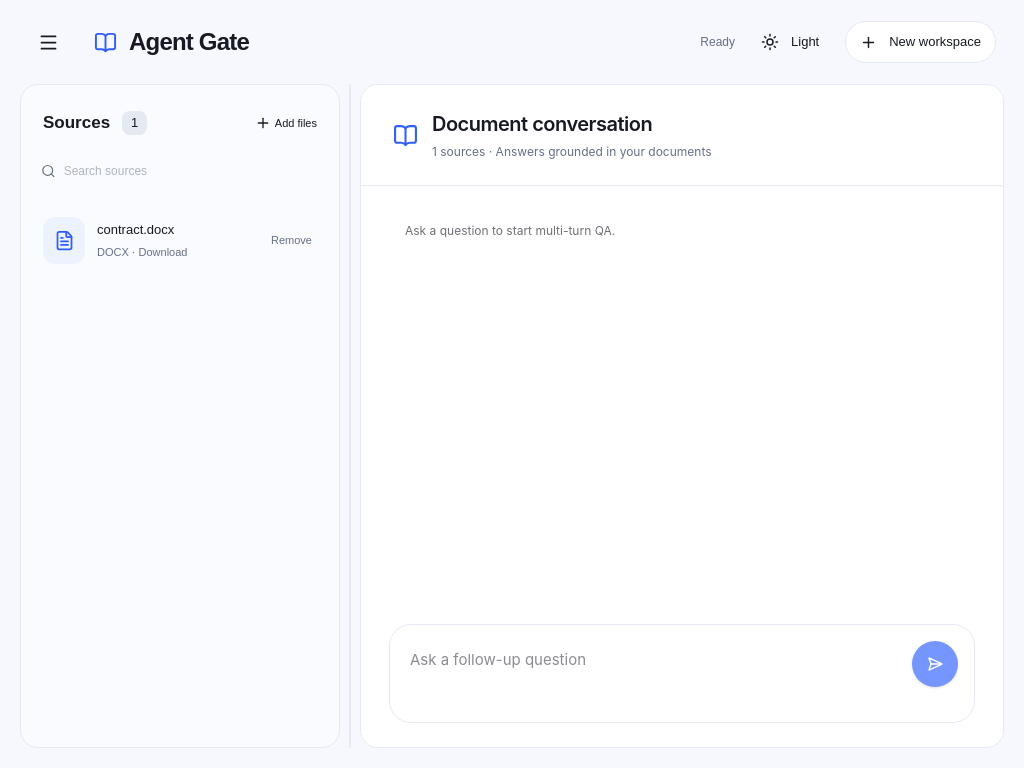
it: 追问走 POST 流，输入框节点稳定，取消携带当前轮次
The width and height of the screenshot is (1024, 768).
Expected: the link "Download contract.docx" is shown, [97, 222, 188, 258]
Step 1. Type "Question" into the text box named "QA question input" → (682, 674), box [406, 641, 958, 706]
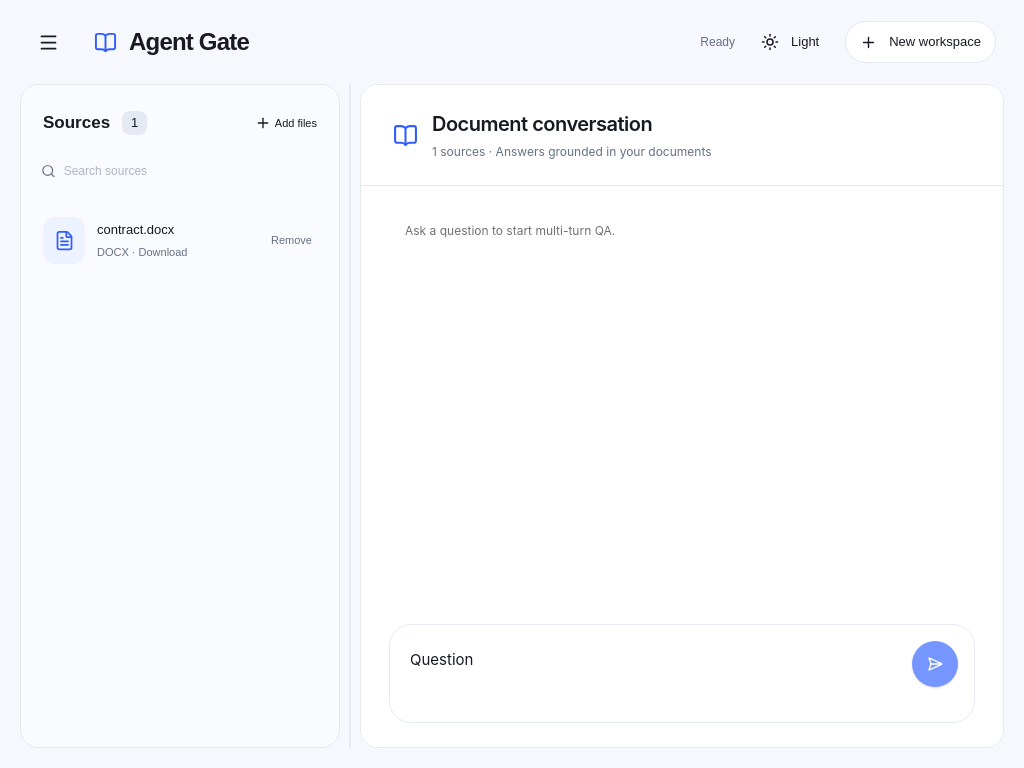
Step 2. Press Enter in the text box named "QA question input", box [406, 641, 958, 706]
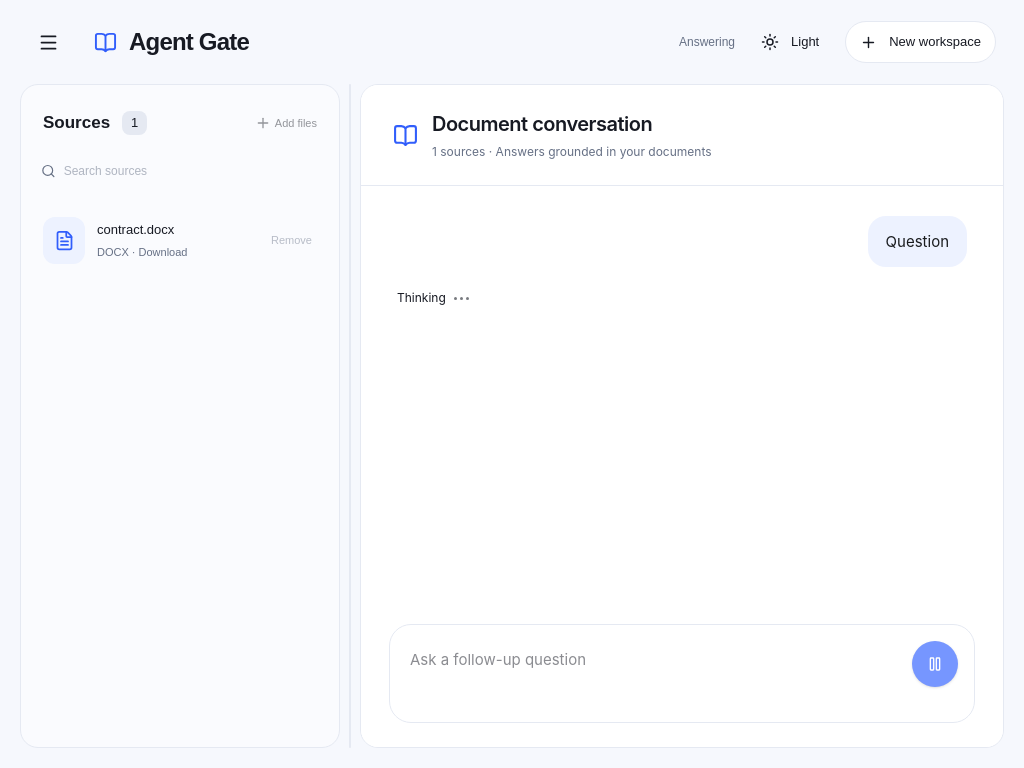
Expected: the text "Question" is shown, [886, 228, 949, 255]
Step 3. Click the button named "Submit or pause answer" → (935, 664), box [912, 641, 958, 687]
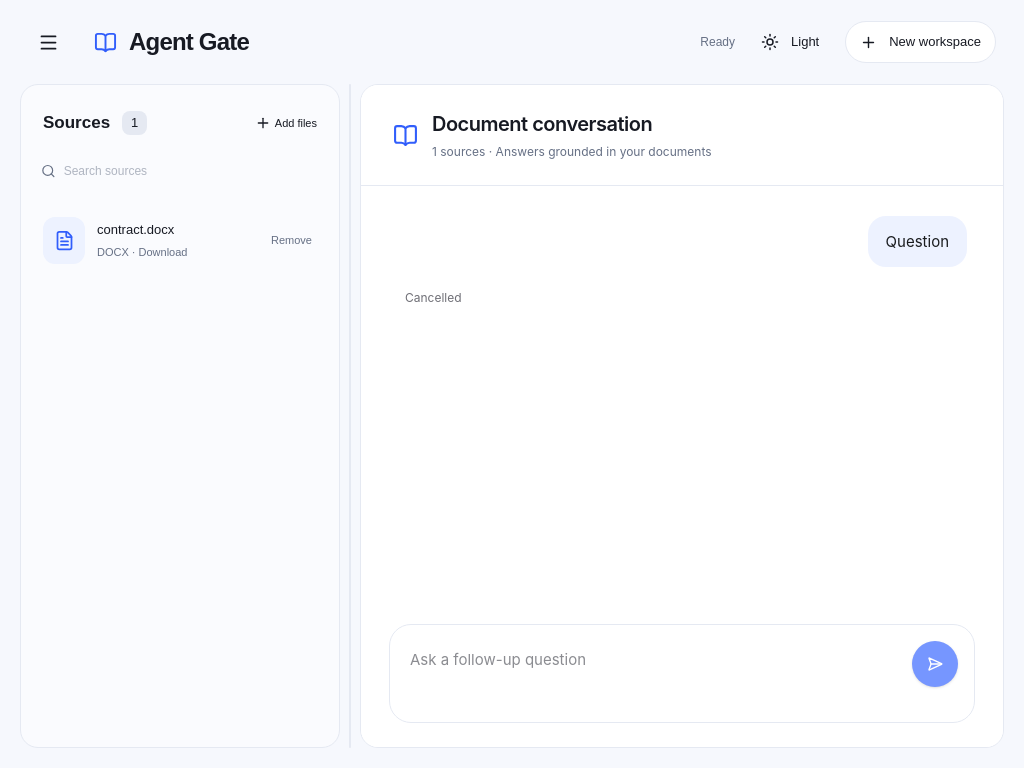
Expected: the text "Cancelled" is shown, [405, 290, 462, 305]
